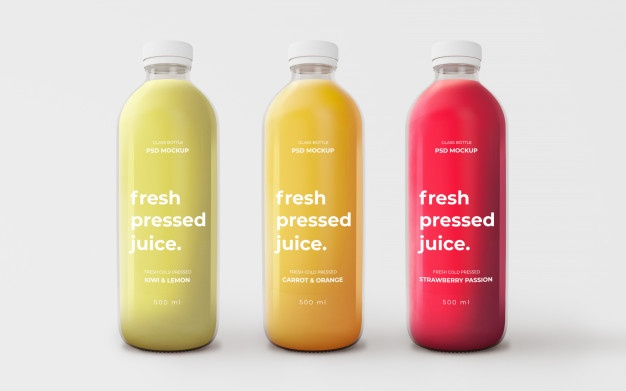glass_bottle: (395, 32, 525, 361), (258, 37, 369, 358), (113, 36, 221, 357)
